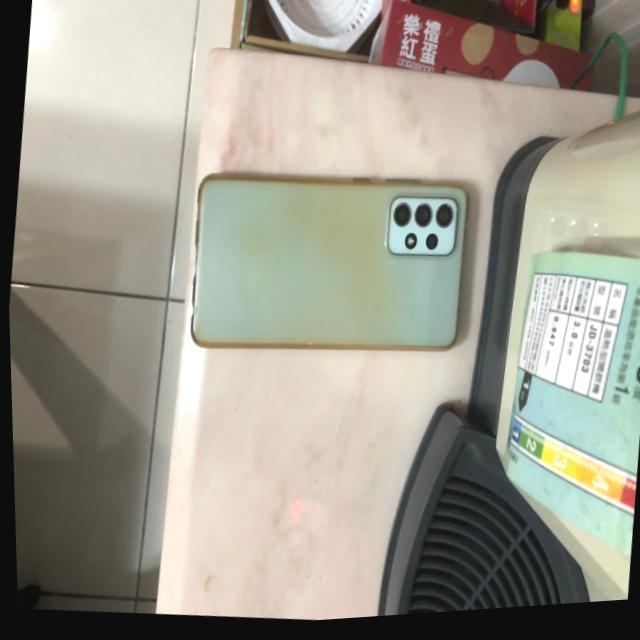Smartphone: (177, 166, 480, 371)
